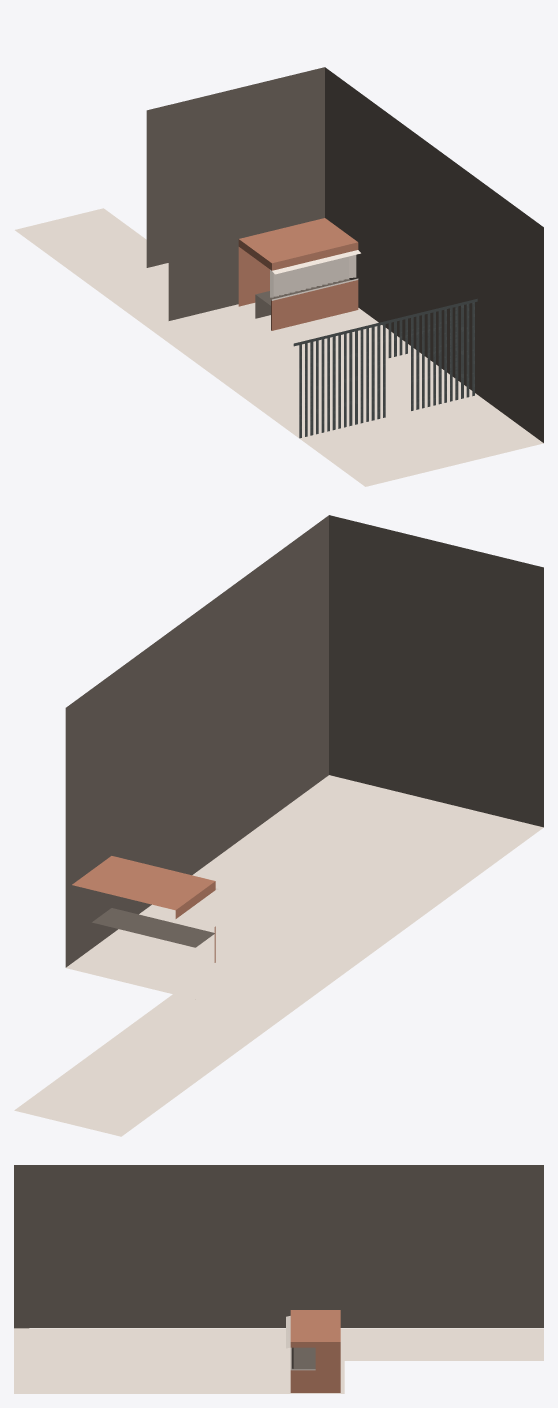
Rendered from lvl0.glb.
The picture shows the model from 3 angles, top to bottom: view 1: azimuth 30°, elevation 25°; view 2: azimuth 150°, elevation 25°; view 3: azimuth 270°, elevation 25°; orthographic projection. The views are drawn at different scales.
Size of the model in its own units: 8.25 by 9.26 by 27.25.
1 material, 1 textured.
